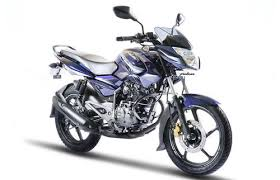motorcycle: (48, 4, 233, 180)
